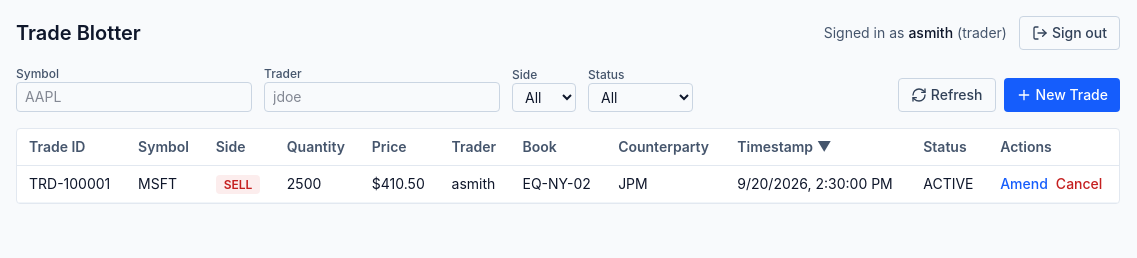
TradeBlotterPage toolbar and live data › refetches on Refresh, even while the list is fresh, and shows the new rows
The width and height of the screenshot is (1137, 258).
Expected: the text "TRD-100001" is shown, [17,166,126,202]
Click the button with aria-label "Refresh trades": (947, 95) [898,78,996,112]
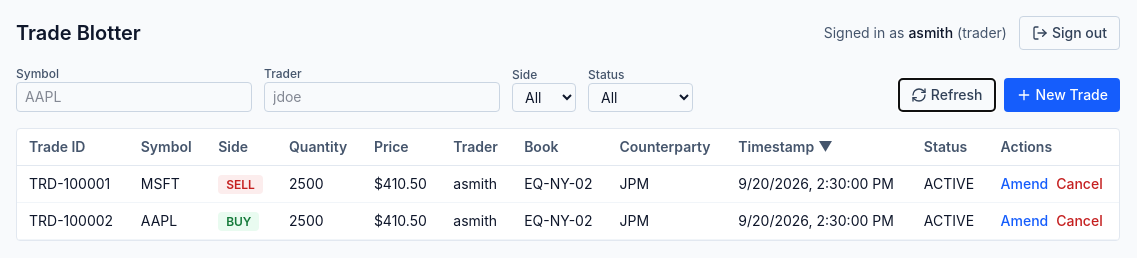
Expected: the text "TRD-100002" is shown, [17,202,129,240]
